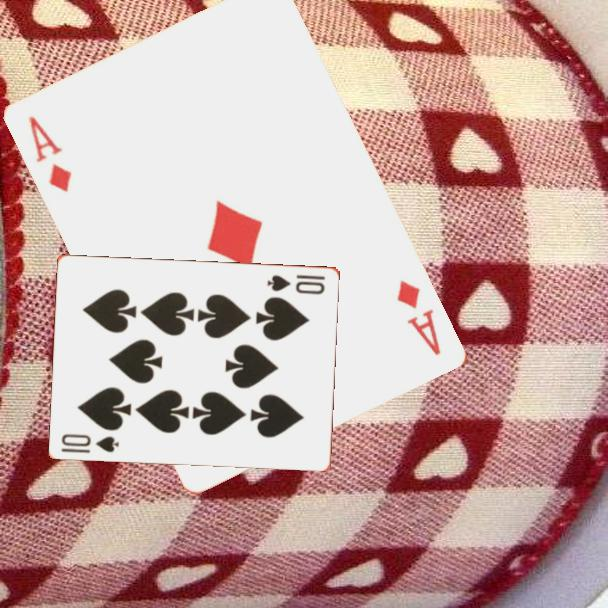d01: (25, 112, 76, 196), (393, 276, 444, 359)
s10: (264, 271, 328, 297), (58, 430, 122, 456)
